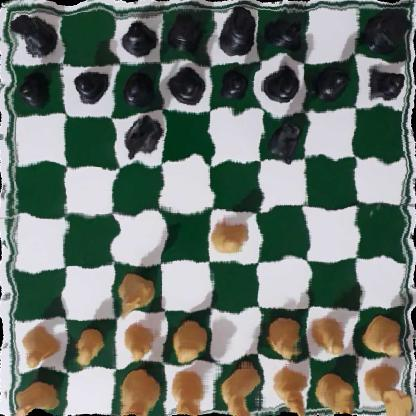black-bishop: (263, 9, 307, 56), (120, 16, 159, 55)
black-king: (212, 6, 256, 55)
black-knight: (124, 110, 160, 159), (267, 118, 298, 160)
black-pawn: (361, 62, 402, 104), (72, 67, 109, 104), (122, 68, 156, 107), (169, 66, 203, 105), (313, 65, 348, 100), (268, 61, 296, 103), (218, 65, 252, 99), (18, 71, 53, 104)
black-queen: (165, 8, 207, 56)
black-rook: (362, 4, 408, 52), (9, 11, 59, 55)
white-bishop: (269, 361, 308, 416), (120, 372, 158, 416)
white-king: (219, 365, 260, 416)
white-knight: (116, 268, 155, 319), (316, 369, 352, 416)
white-pawn: (17, 322, 56, 370), (313, 307, 352, 354), (265, 313, 302, 361), (121, 321, 158, 368), (168, 316, 207, 360), (211, 216, 249, 258), (366, 314, 403, 354), (72, 326, 105, 368)
white-queen: (168, 368, 207, 416)
white-rook: (364, 357, 408, 416), (13, 374, 55, 416)
